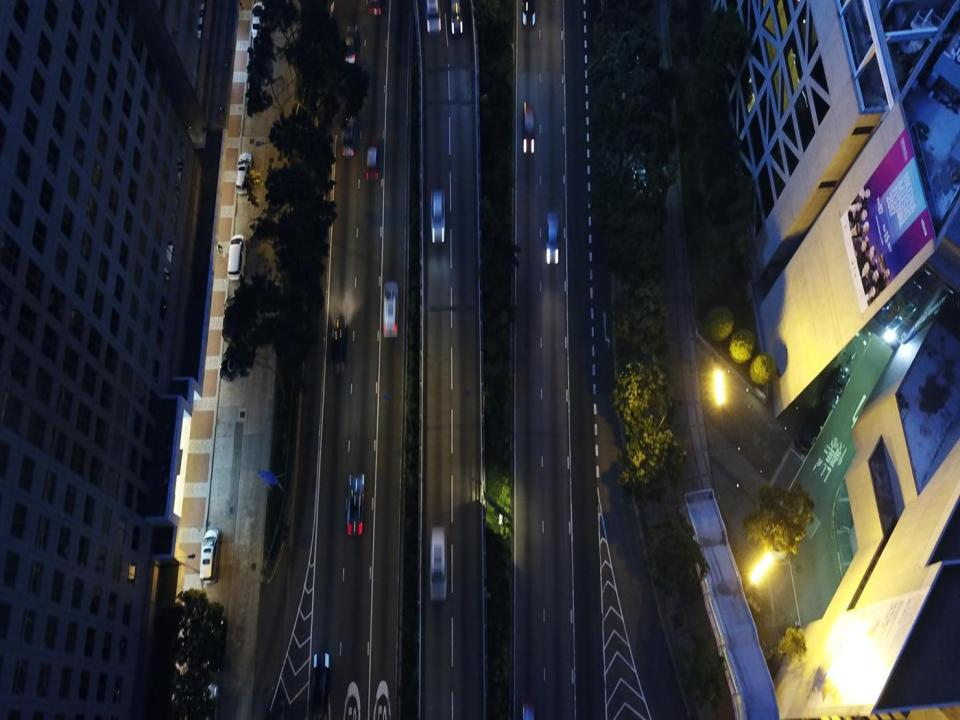car: (346, 474, 364, 535), (314, 652, 330, 718), (544, 214, 560, 264), (332, 318, 347, 371), (250, 2, 268, 36), (342, 112, 355, 156), (523, 102, 534, 154), (343, 25, 357, 63), (521, 0, 536, 28), (367, 146, 378, 180)
van: (430, 527, 447, 603), (200, 529, 221, 583), (228, 233, 246, 280), (383, 282, 398, 338), (430, 191, 445, 245), (235, 154, 253, 194), (425, 0, 442, 34), (450, 0, 464, 34)
